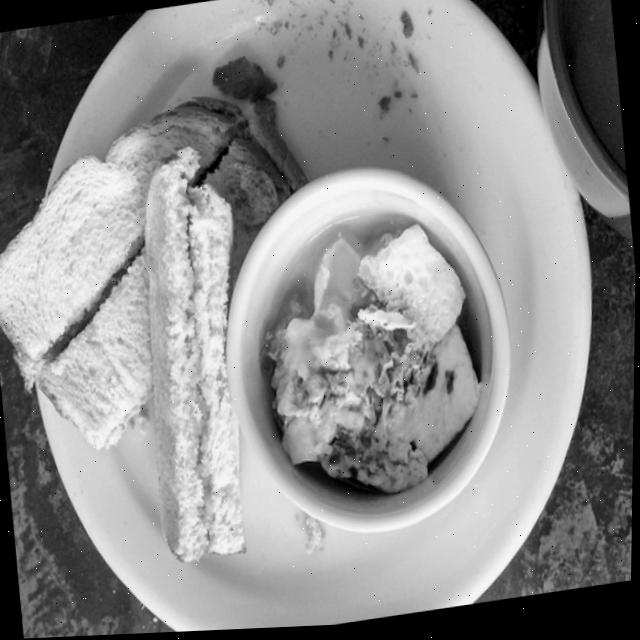面包点心: (0, 27, 540, 625)
